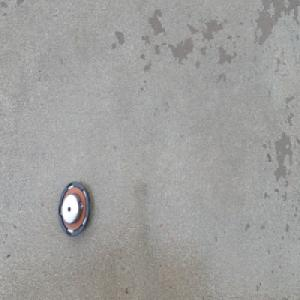FuelCap: (57, 180, 90, 241)
